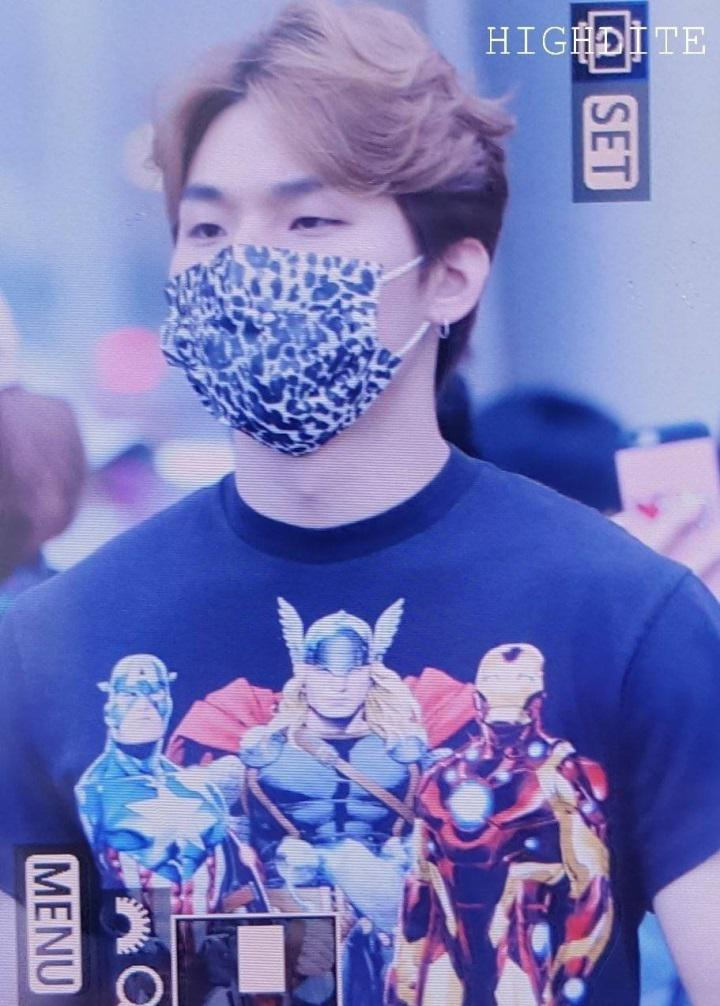OK: (155, 168, 428, 441)
